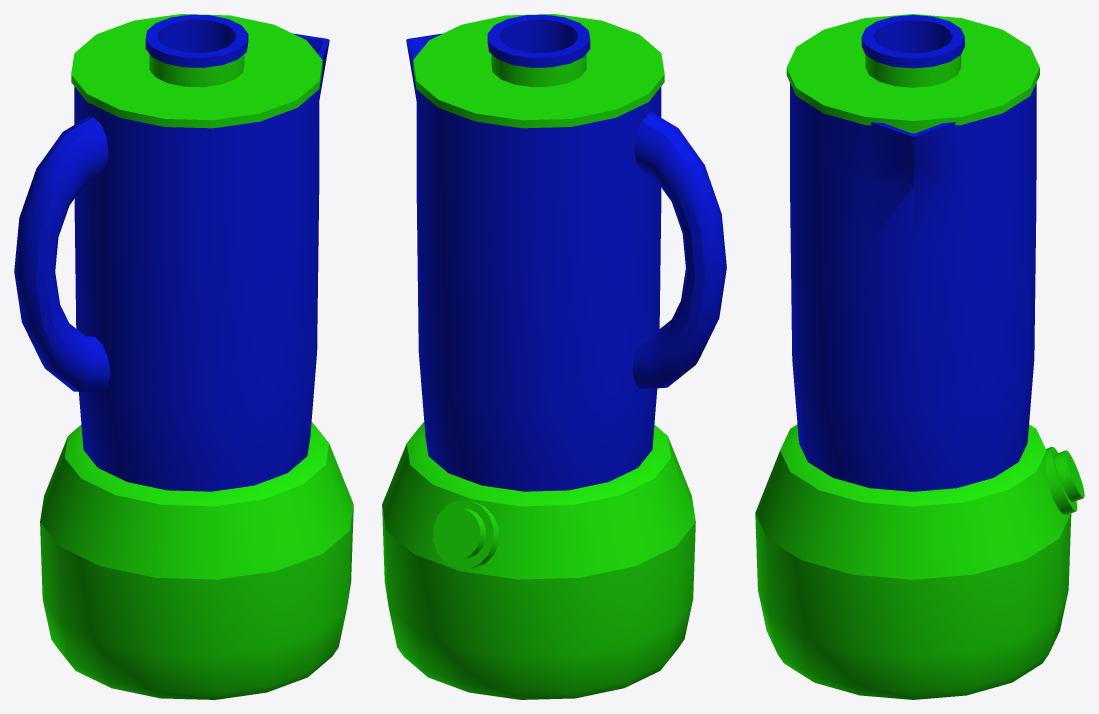
File: BlenderCallCenter.fbx
3 views of the same model, side by side, from view 1: azimuth 30°, elevation 25°; view 2: azimuth 150°, elevation 25°; view 3: azimuth 270°, elevation 25° (orthographic).
Visible parts, largest first — view 1: Blender; view 2: Blender; view 3: Blender.
Boxes of the visible parts, x1,y1,x2,y2 form: Blender: (14, 14, 353, 699); Blender: (382, 14, 726, 699); Blender: (755, 14, 1084, 699).
Size of the model in its own units: 0.2208 by 0.4001 by 0.1977.
